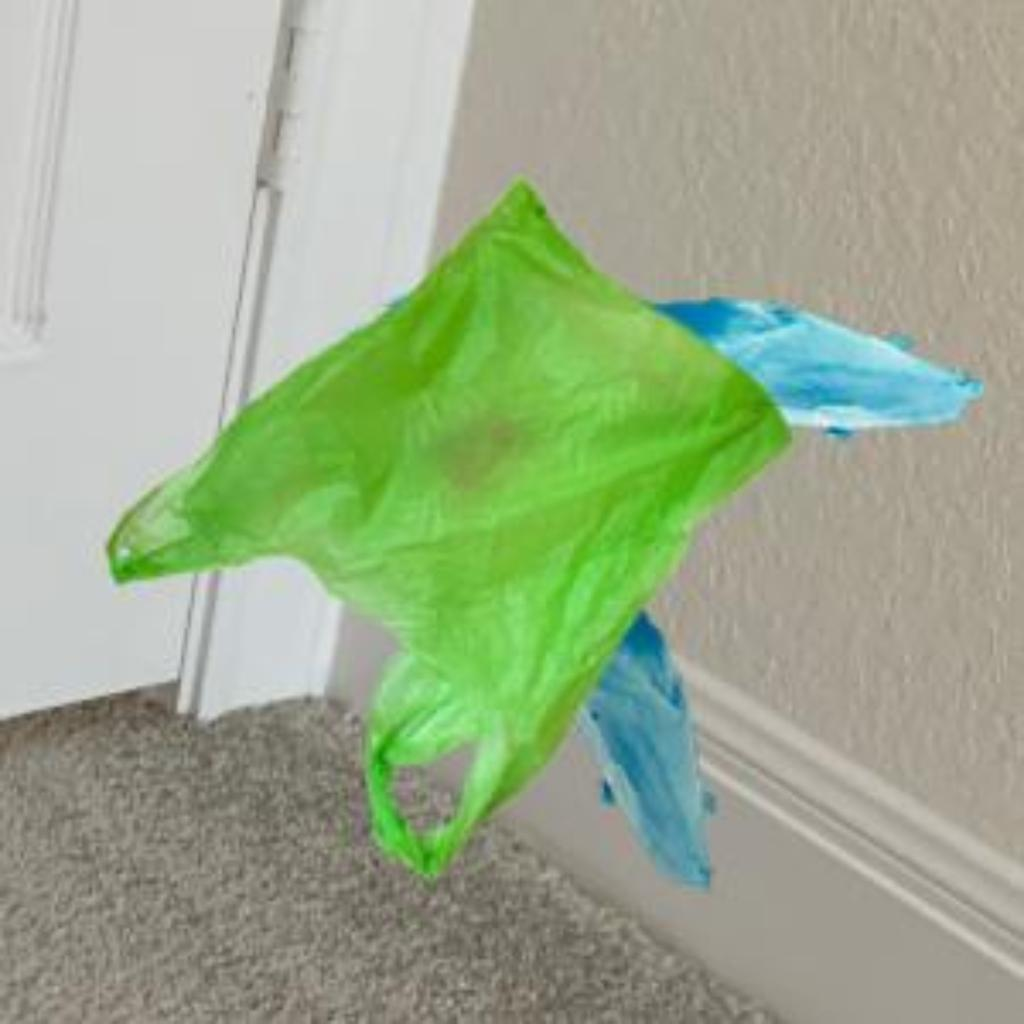garbage: (137, 217, 768, 773), (558, 232, 992, 905)
